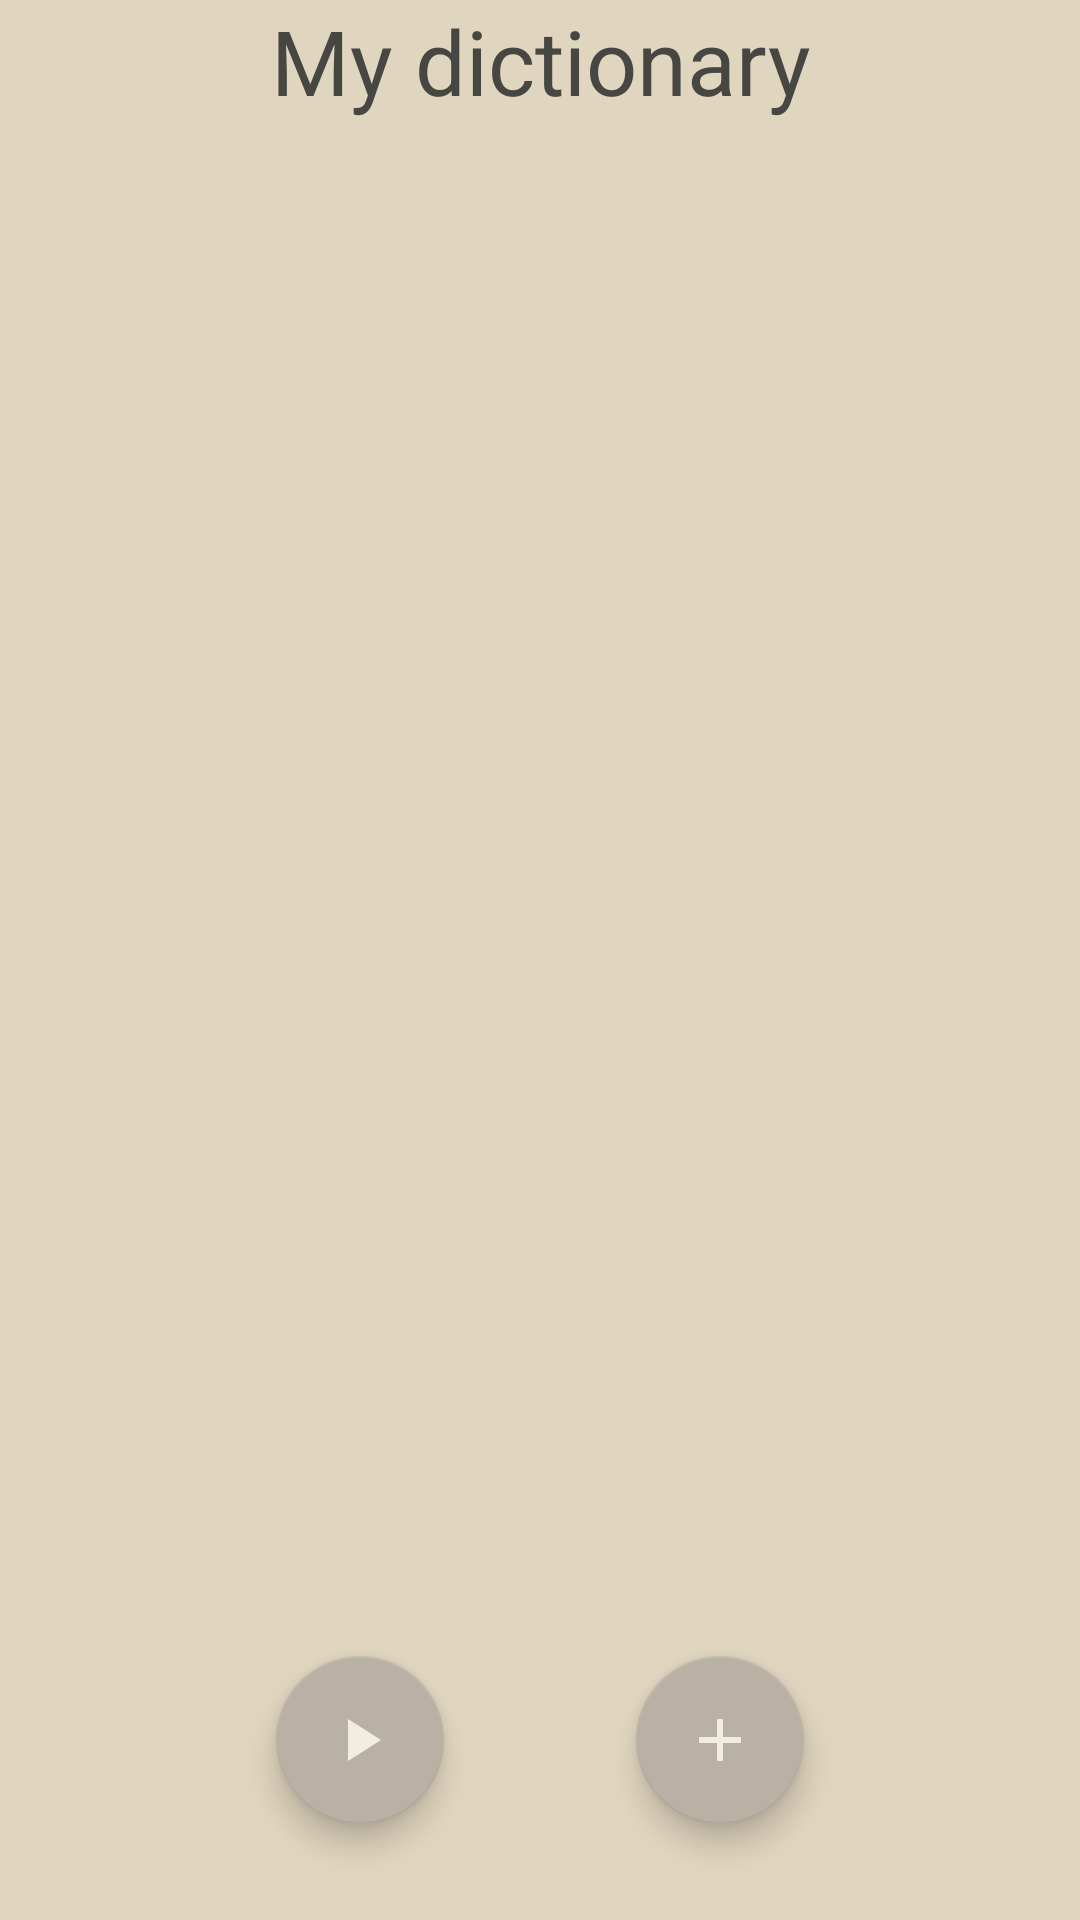

Where to tap for icons on this 1080 × 1920 app screen, as (x=x, y=y):
add: (x=720, y=1740)
start: (x=360, y=1740)
